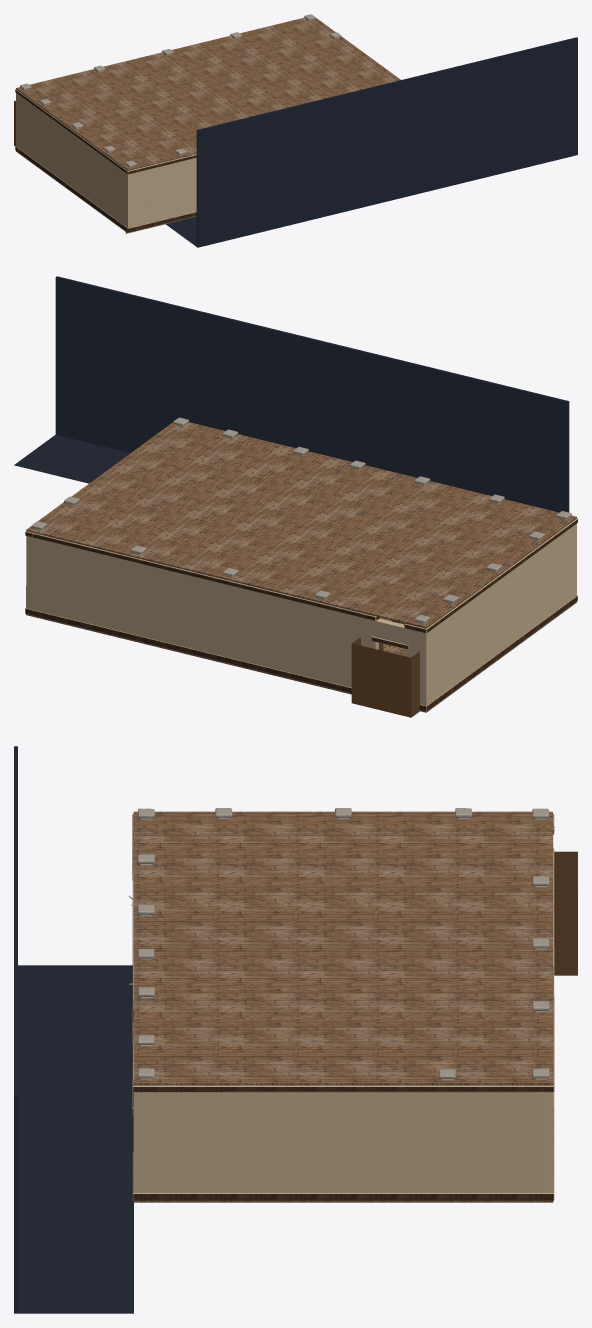
The model's file is taverna-npr.glb.
3 renders of one model, top to bottom at view 1: azimuth 30°, elevation 25°; view 2: azimuth 150°, elevation 25°; view 3: azimuth 270°, elevation 25°, orthographic. The views are drawn at different scales.
Visible parts, largest first — view 1: Kapi_Disari_Gece, Tavan, Duvar_Bati, Duvar_Guney_Bati, Direk_Kuzey; view 2: Kapi_Disari_Gece, Tavan, Duvar_Kuzey_Dogu, Duvar_Bati, Mutfak_Girisi, Duvar_Kuzey_Bati, Zemin, Direk_Guney, Kapi_Mutfak_Lento, Direk_Kuzey; view 3: Tavan, Duvar_Dogu, Kapi_Disari_Gece, Mutfak_Girisi, Duvar_Kuzey_Dogu, Direk_Guney, Direk_Kuzey, Zemin.
Part boxes in pixels (bbox=[...]): Kapi_Disari_Gece: bbox=[166, 37, 577, 247]; Tavan: bbox=[16, 17, 400, 170]; Duvar_Bati: bbox=[15, 89, 128, 230]; Duvar_Guney_Bati: bbox=[124, 154, 196, 232]; Direk_Kuzey: bbox=[20, 14, 315, 90]; Kapi_Disari_Gece: bbox=[14, 276, 569, 512]; Tavan: bbox=[26, 422, 576, 628]; Duvar_Kuzey_Dogu: bbox=[25, 531, 379, 693]; Duvar_Bati: bbox=[419, 518, 577, 710]; Mutfak_Girisi: bbox=[351, 637, 420, 717]; Duvar_Kuzey_Bati: bbox=[404, 623, 430, 711]; Zemin: bbox=[26, 602, 576, 712]; Direk_Guney: bbox=[173, 417, 571, 520]; Kapi_Mutfak_Lento: bbox=[371, 618, 408, 649]; Direk_Kuzey: bbox=[31, 521, 429, 624]; Tavan: bbox=[133, 811, 553, 1085]; Duvar_Dogu: bbox=[132, 1081, 554, 1200]; Kapi_Disari_Gece: bbox=[14, 746, 133, 1313]; Mutfak_Girisi: bbox=[554, 851, 577, 975]; Duvar_Kuzey_Dogu: bbox=[542, 848, 554, 1200]; Direk_Guney: bbox=[137, 808, 154, 1080]; Direk_Kuzey: bbox=[532, 808, 549, 1080]; Zemin: bbox=[133, 1201, 553, 1202].
Size of what is drawn, in the model's own units: 22.74 by 6.36 by 14.12.
Materials: 42 (21 with a texture image).
